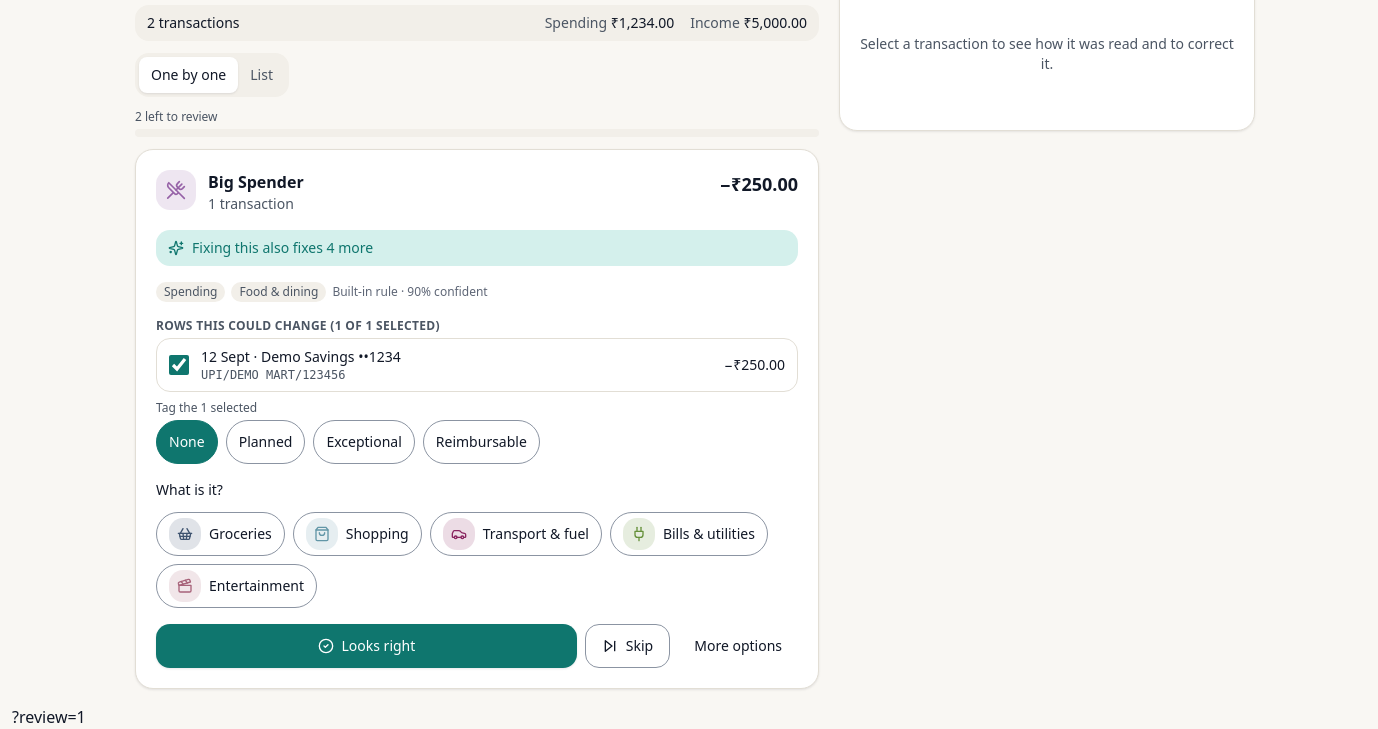
Test: ActivityPage › orders the review queue by reviewPriority, not by date
(page scrolled)
Check: the text "Big Spender" is shown, box x1=208 y1=171 x2=304 y2=193
Check: the text "Fixing this also fixes 4 more" is shown, box x1=156 y1=230 x2=798 y2=266
What coordinates should you click on to do the following:
click the button "Skip"
I would click on:
 (628, 646)
Its box is x1=585 y1=624 x2=670 y2=668.
(page scrolled)
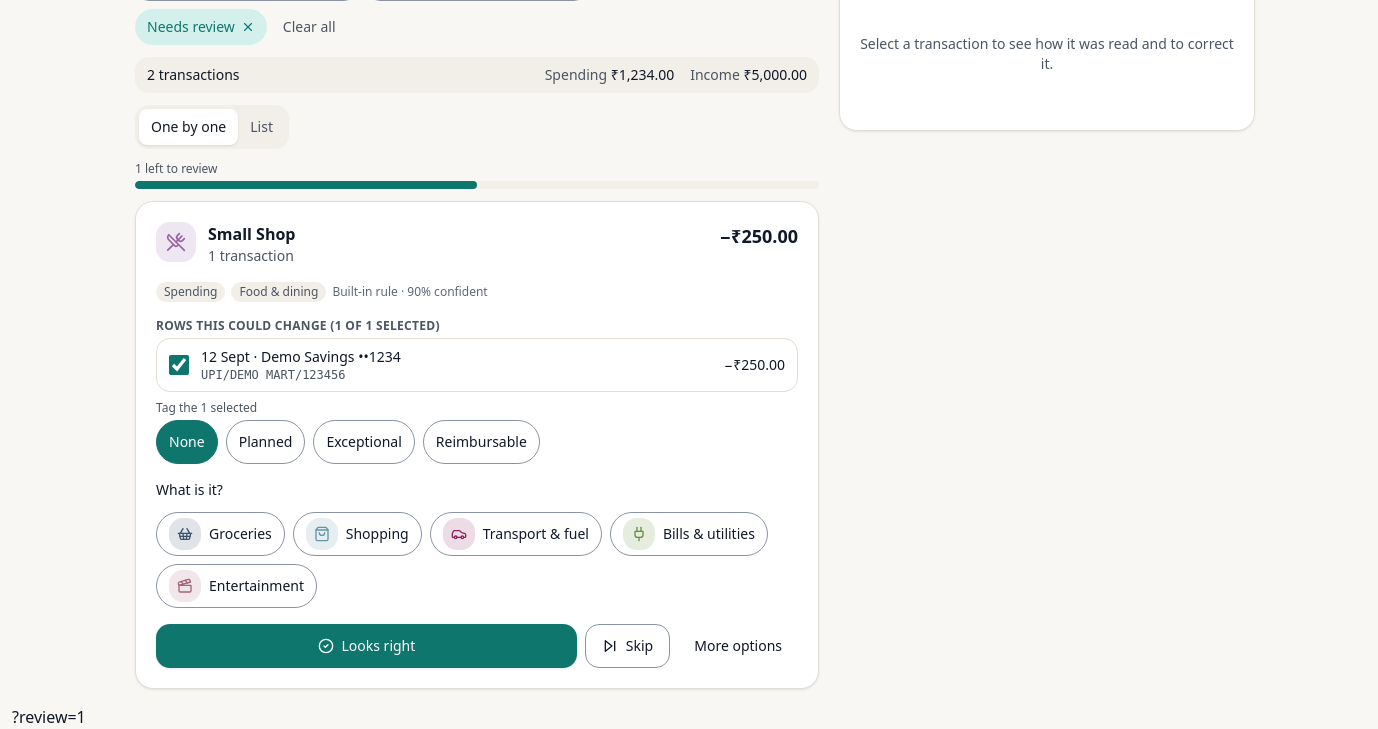
Check: the text "Small Shop" is shown, box x1=208 y1=223 x2=296 y2=245
Check: the text "also fixes" is gone
